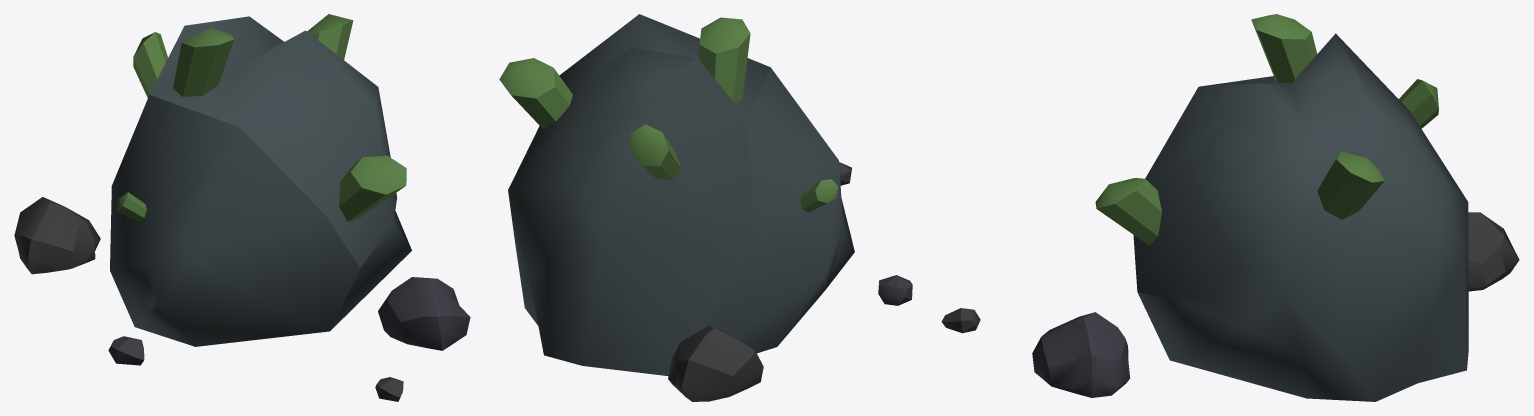
File: hallie_emerald.fbx
3 views of the same model, side by side, from view 1: azimuth 30°, elevation 25°; view 2: azimuth 150°, elevation 25°; view 3: azimuth 270°, elevation 25° (orthographic). The views are drawn at different scales.
Parts seen in each view (by area): view 1: m_oreRock4, m_oreRock6, m_oreRock5, m_emeraldGem3, m_emeraldGem, m_emeraldGem1, m_emeraldGem4, m_oreRock8, m_emeraldGem2, m_oreRock7; view 2: m_oreRock4, m_oreRock5, m_emeraldGem4, m_emeraldGem, m_emeraldGem1, m_oreRock8, m_emeraldGem2; view 3: m_oreRock4, m_oreRock6, m_emeraldGem, m_emeraldGem3, m_emeraldGem4, m_oreRock5, m_emeraldGem1, m_oreRock7.
Part boxes in pixels (x1,y1,x2,y2): m_oreRock4: (110,16,411,346); m_oreRock6: (378,277,470,350); m_oreRock5: (14,197,100,274); m_emeraldGem3: (339,155,406,221); m_emeraldGem: (173,28,233,96); m_emeraldGem1: (133,32,167,97); m_emeraldGem4: (307,14,353,59); m_oreRock8: (108,336,144,365); m_emeraldGem2: (117,192,146,222); m_oreRock7: (375,377,403,401); m_oreRock4: (508,14,854,376); m_oreRock5: (668,326,763,401); m_emeraldGem4: (499,58,572,129); m_emeraldGem: (699,17,750,103); m_emeraldGem1: (629,124,681,180); m_oreRock8: (878,275,912,305); m_emeraldGem2: (800,179,838,212); m_oreRock4: (1133,33,1468,401); m_oreRock6: (1032,312,1130,397); m_emeraldGem: (1251,14,1317,82); m_emeraldGem3: (1095,178,1161,245); m_emeraldGem4: (1317,151,1384,219); m_oreRock5: (1468,212,1519,291); m_emeraldGem1: (1399,79,1438,128); m_oreRock7: (941,308,980,333).
Bounding box in the file's own units: 0.8549 × 0.7613 × 1.25.
